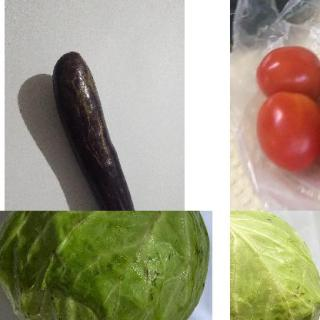Tomat: (256, 45, 320, 173)
